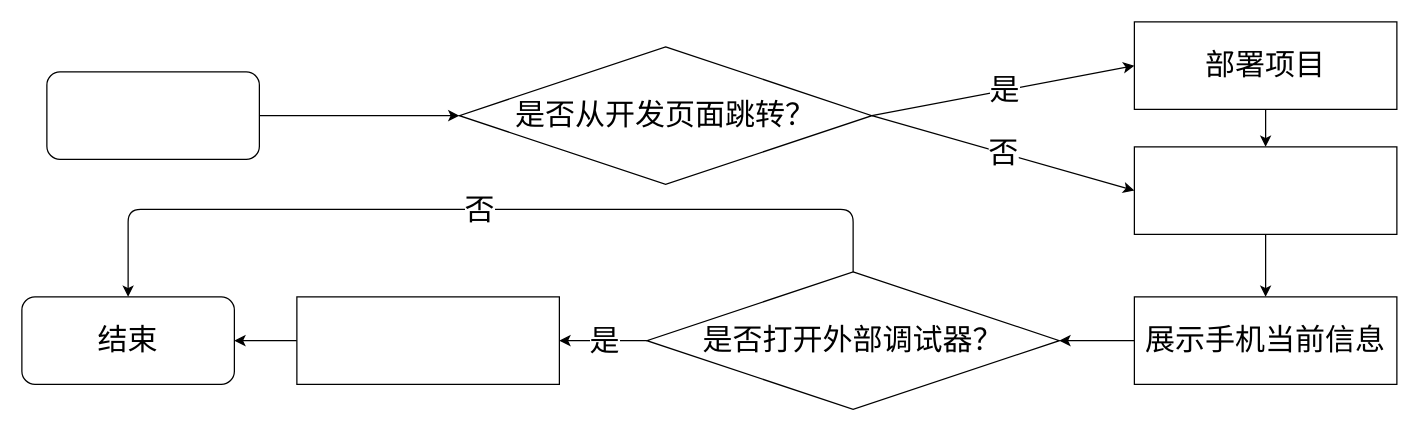
The diagram is 1419 pixels wide and 431 high, and some of its shapes have lost their labels. Each missing label, with the centre of its shape:
将手机画面投屏到电脑: pixel 1265 190
开始: pixel 152 115
打开外部调试器: pixel 427 340
